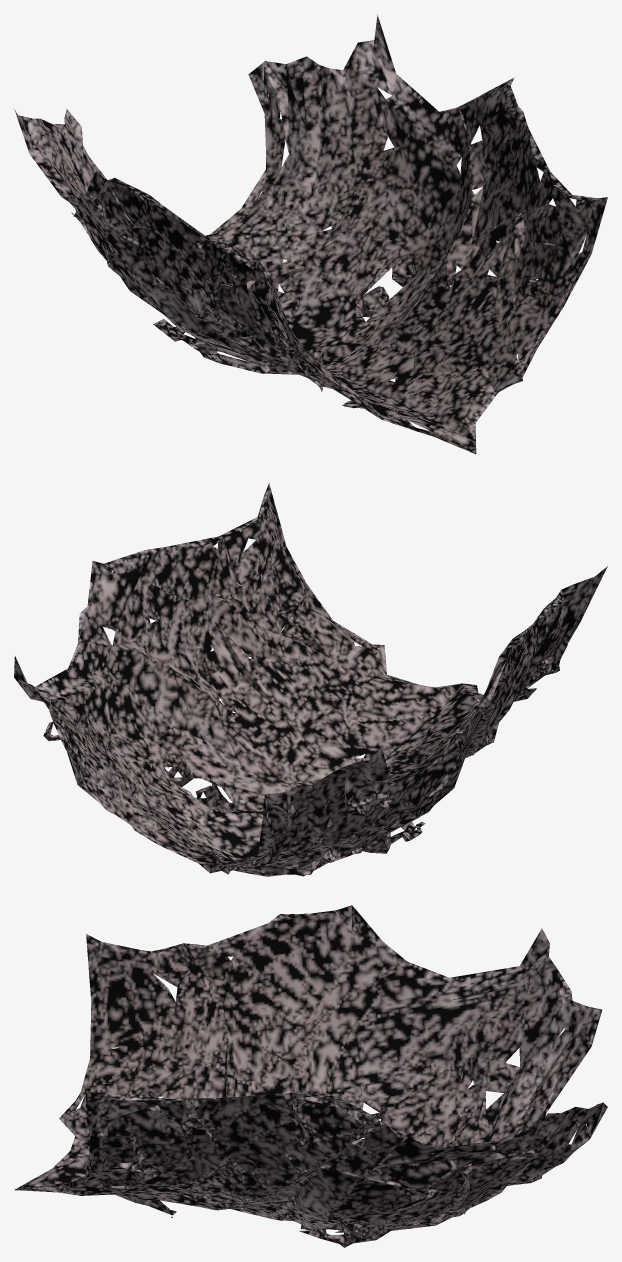
File: vampire_chestplate_LOD2.glb
3 views of the same model, one above another, from view 1: azimuth 30°, elevation 25°; view 2: azimuth 150°, elevation 25°; view 3: azimuth 270°, elevation 25° (orthographic). The views are drawn at different scales.
Visible parts, largest first — view 1: vampire_chestplate_LOD2; view 2: vampire_chestplate_LOD2; view 3: vampire_chestplate_LOD2.
Boxes of the visible parts, x1,y1,x2,y2 form: vampire_chestplate_LOD2: (14, 14, 607, 454); vampire_chestplate_LOD2: (14, 483, 607, 876); vampire_chestplate_LOD2: (15, 905, 607, 1247).
Size of the model in its own units: 0.5802 by 0.326 by 0.7637.
1 material, 1 textured.
